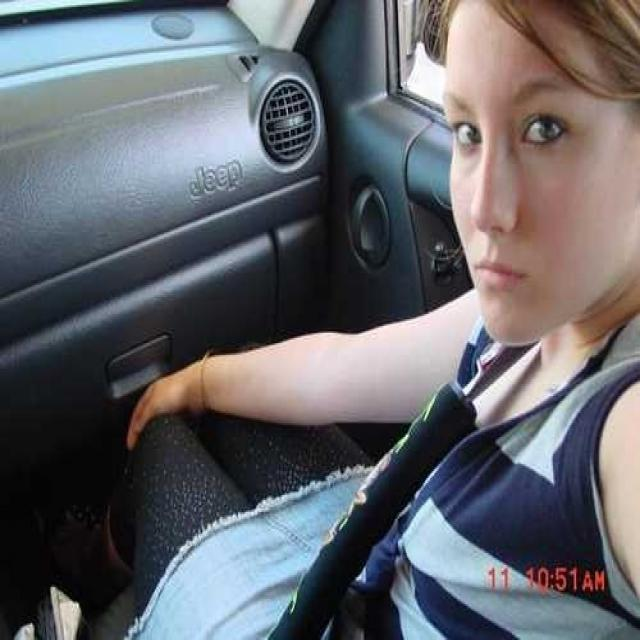seatbelt: (248, 344, 548, 614)
